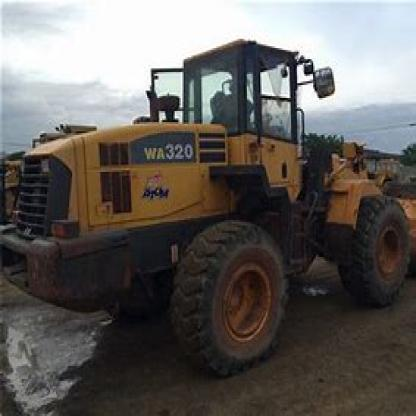bull_dozer/loader/grader: (7, 28, 414, 373)
